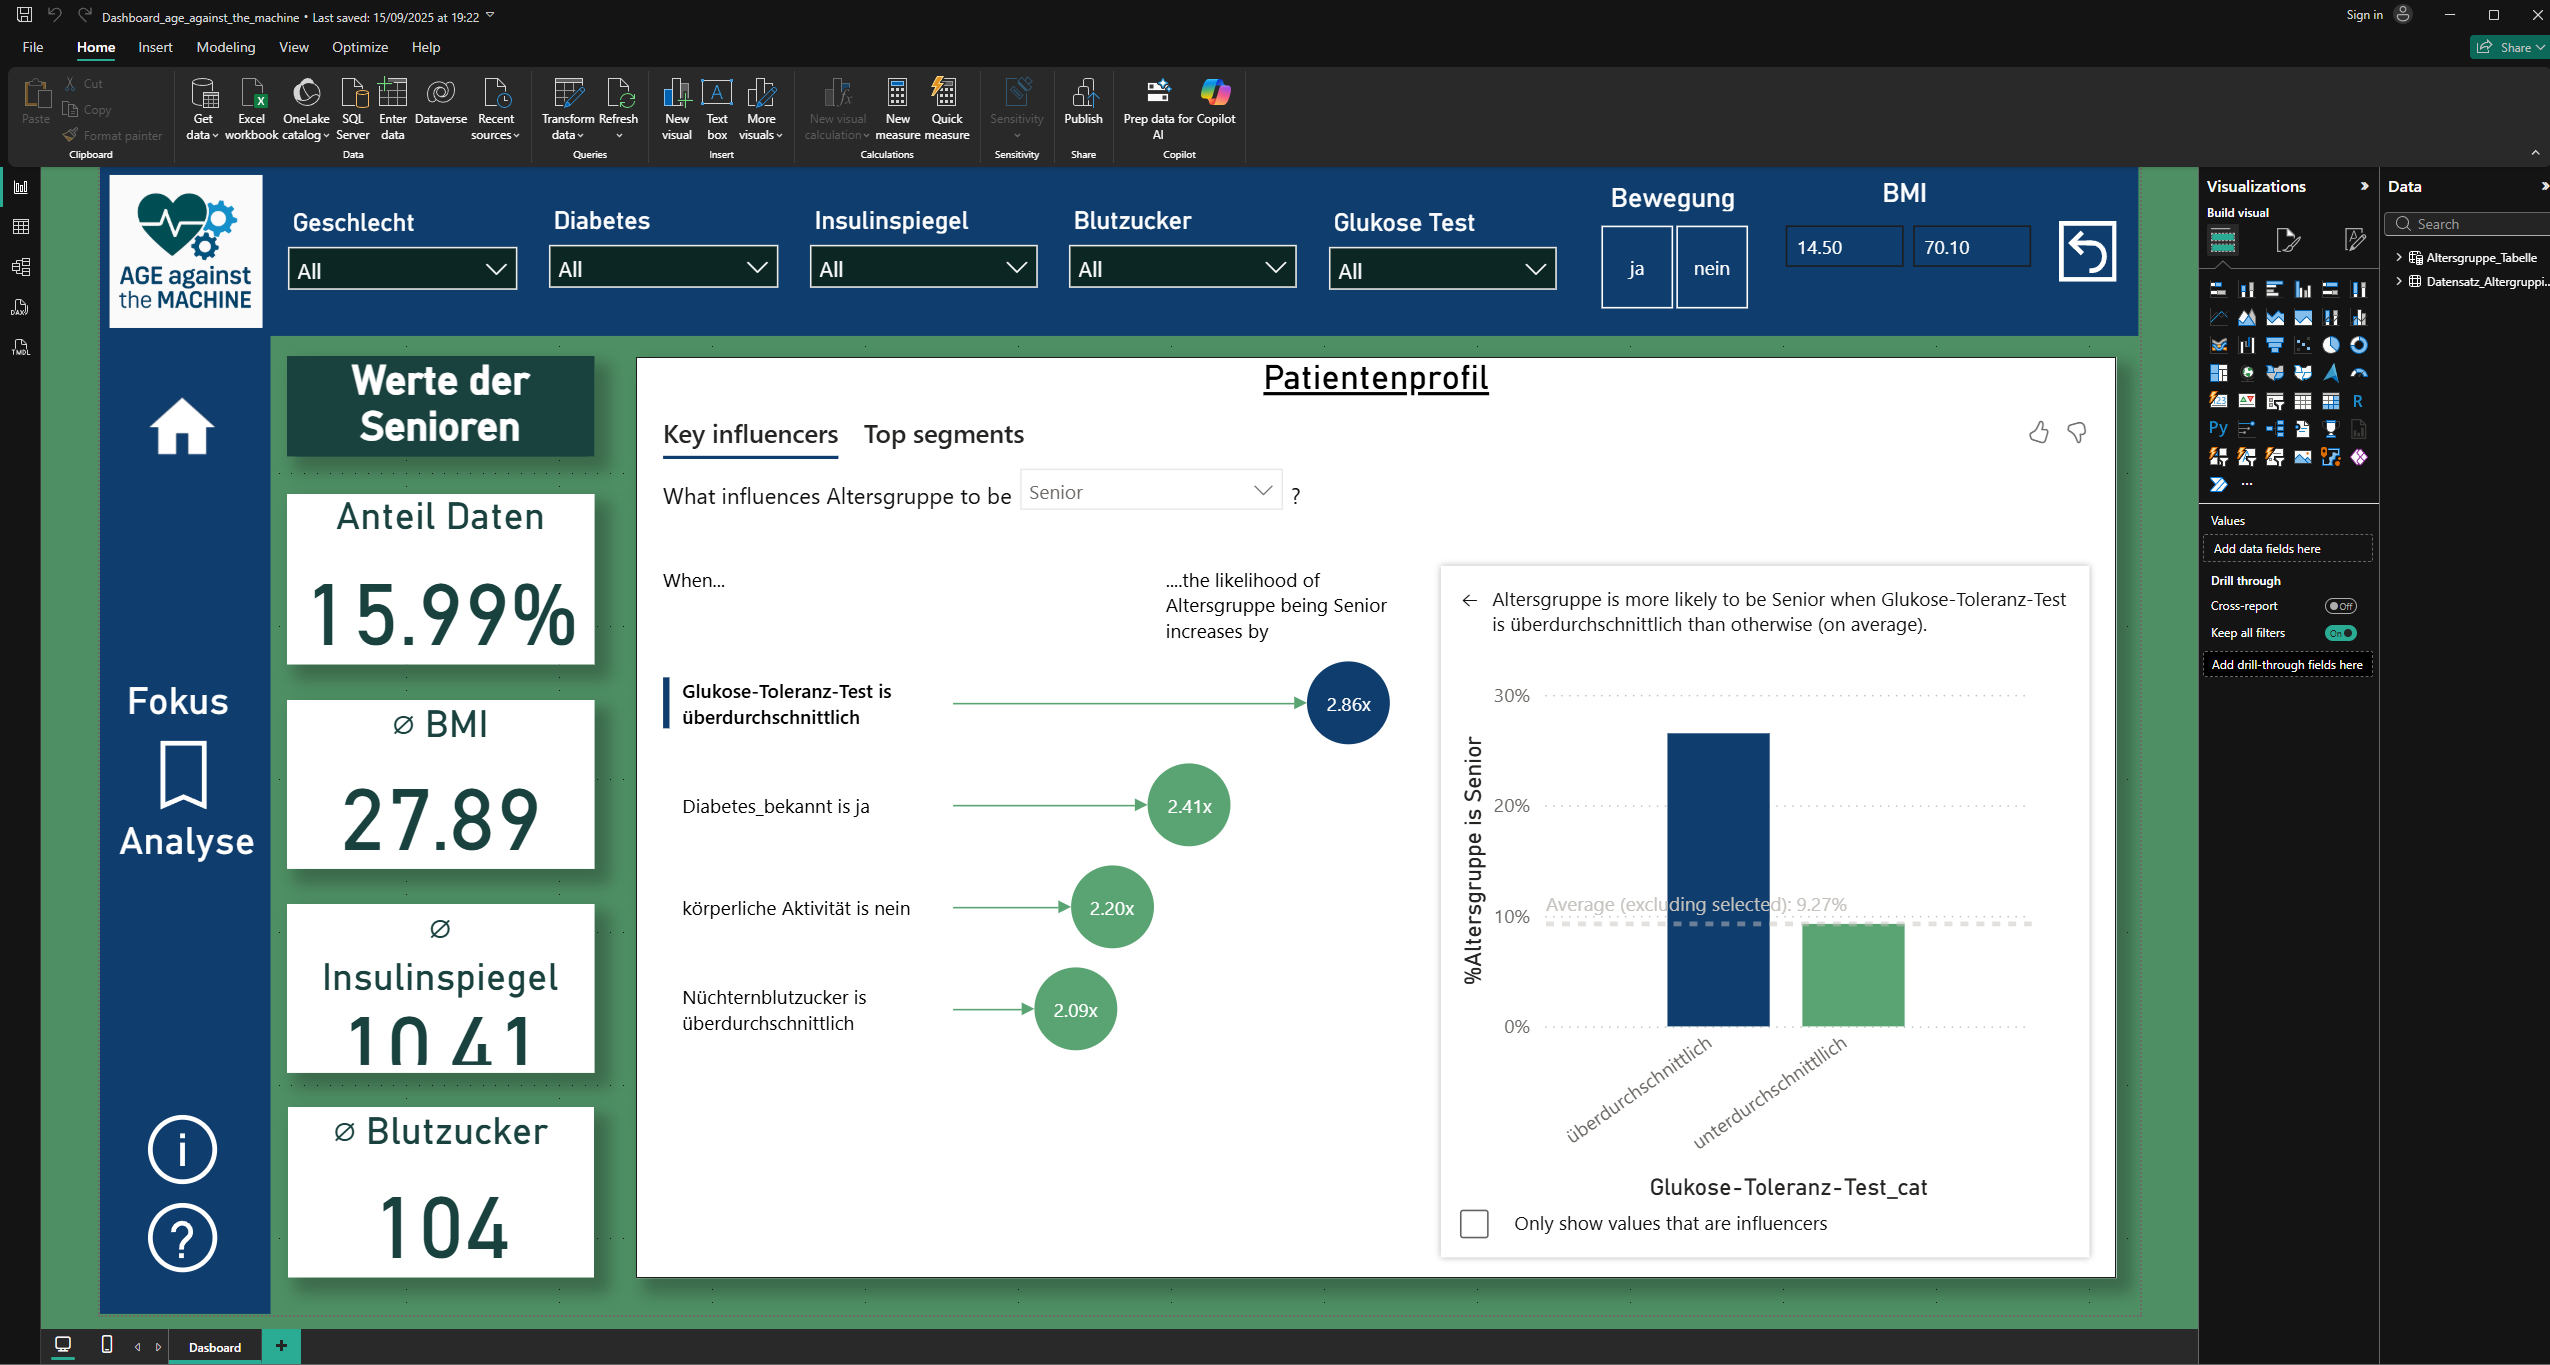

The dashboard page shown, as its layout file describes it:
{"tool":"powerbi","page":{"name":"Dasboard","canvas":[1280,720],"ordinal":0},"visuals":[{"type":"shape","title":"Menüband links","box":[0,0,107.5,719.6],"z":0},{"type":"shape","title":"Menüband oben","box":[0,0,1279.5,106.1],"z":1000},{"type":"image","title":"Logo","box":[0,0,107.9,106.1],"z":2000},{"type":"slicer","title":"Slicer Geschlecht","fields":{"Values":["power_bi.Geschlecht_cat"]},"box":[108.2,20,163.6,67.3],"z":3000},{"type":"slicer","title":"Slicer Diabetes","fields":{"Values":["power_bi.Diabetes_bekannt_cat"]},"box":[271.8,19.1,163.6,67.3],"z":4000},{"type":"slicer","title":"Slicer Alter","fields":{"Values":["power_bi.Insulinspiegel_cat"]},"box":[435.5,19.1,162.7,67.3],"z":5000},{"type":"slicer","title":"Bewegung","fields":{"Values":["power_bi.körperliche Aktivität_cat"]},"box":[916.4,9.1,141.8,87.3],"z":6000},{"type":"slicer","title":"BMI","fields":{"Values":["power_bi.Body-Mass-Index"]},"box":[1044.5,5.5,175.5,94.5],"z":7000},{"type":"actionButton","title":"Zurück","box":[25,137,57,53],"z":8000},{"type":"keyDriversVisual","title":"Patientenprofil","fields":{"ExplainBy":["power_bi.Body-Mass-Index_cat","power_bi.Diabetes_bekannt_cat","power_bi.Geschlecht_cat","power_bi.Insulinspiegel_cat","power_bi.körperliche Aktivität_cat","power_bi.Nüchternblutzucker_cat","power_bi.Glukose-Toleranz-Test_cat"],"Target":["power_bi.Altersgruppe"]},"box":[336,119,929,578],"z":9000},{"type":"actionButton","title":"Info Button","box":[24,588.7,57,55.9],"z":10000},{"type":"actionButton","title":"Bookmark","box":[25,354,57,55],"z":11000},{"type":"card","title":"⌀ BMI","fields":{"Values":["Avg(power_bi.Body-Mass-Index)"]},"box":[117.6,334.4,192.6,106.1],"z":12000},{"type":"card","title":"⌀ Insulinspiegel","fields":{"Values":["Avg(power_bi.Insulinspiegel)"]},"box":[117.6,462.4,192.6,106.1],"z":13000},{"type":"card","title":"⌀ Blutzucker","fields":{"Values":["Avg(power_bi.Nüchternblutzucker)"]},"box":[118,590,192,107],"z":14000},{"type":"card","title":"Anteil Daten","fields":{"Values":["power_bi.SeniorPct"]},"box":[117.6,205.3,192.6,107.2],"z":15000},{"type":"textbox","title":"Werte der Senioren","box":[117.6,118.8,192.6,63.4],"z":16000},{"type":"actionButton","title":"Slicer zurücksetzen","box":[1229.1,33.6,36.4,38.2],"z":17000},{"type":"textbox","title":"Fokus:","box":[12,321,83,33],"z":18000},{"type":"slicer","title":"Slicer Alter","fields":{"Values":["power_bi.Nüchternblutzucker_cat"]},"box":[598.2,19.1,162.7,67.3],"z":19000},{"type":"slicer","title":"Slicer Alter","fields":{"Values":["power_bi.Glukose-Toleranz-Test_cat"]},"box":[760.9,20,162.7,67.3],"z":20000},{"type":"textbox","title":"Analyse","box":[7,409,107,33],"z":21000},{"type":"actionButton","title":"Hilfe Home","box":[24,644,57,56],"z":22000}]}

Visuals, with their boxes on the page's 1280x720 design canvas (x1, y1, x2, y2). These are canvas units, not pixel positions in the 2550x1365 screenshot, which may show the page scaled, cropped or inside an application window:
"Menüband links" shape: 0/0/108/720
"Menüband oben" shape: 0/0/1280/106
"Logo" image: 0/0/108/106
"Slicer Geschlecht" slicer: 108/20/272/87
"Slicer Diabetes" slicer: 272/19/435/86
"Slicer Alter" slicer: 436/19/598/86
"Bewegung" slicer: 916/9/1058/96
"BMI" slicer: 1044/6/1220/100
"Zurück" actionButton: 25/137/82/190
"Patientenprofil" keyDriversVisual: 336/119/1265/697
"Info Button" actionButton: 24/589/81/645
"Bookmark" actionButton: 25/354/82/409
"⌀ BMI" card: 118/334/310/440
"⌀ Insulinspiegel" card: 118/462/310/568
"⌀ Blutzucker" card: 118/590/310/697
"Anteil Daten" card: 118/205/310/312
"Werte der Senioren" textbox: 118/119/310/182
"Slicer zurücksetzen" actionButton: 1229/34/1266/72
"Fokus:" textbox: 12/321/95/354
"Slicer Alter" slicer: 598/19/761/86
"Slicer Alter" slicer: 761/20/924/87
"Analyse" textbox: 7/409/114/442
"Hilfe Home" actionButton: 24/644/81/700
